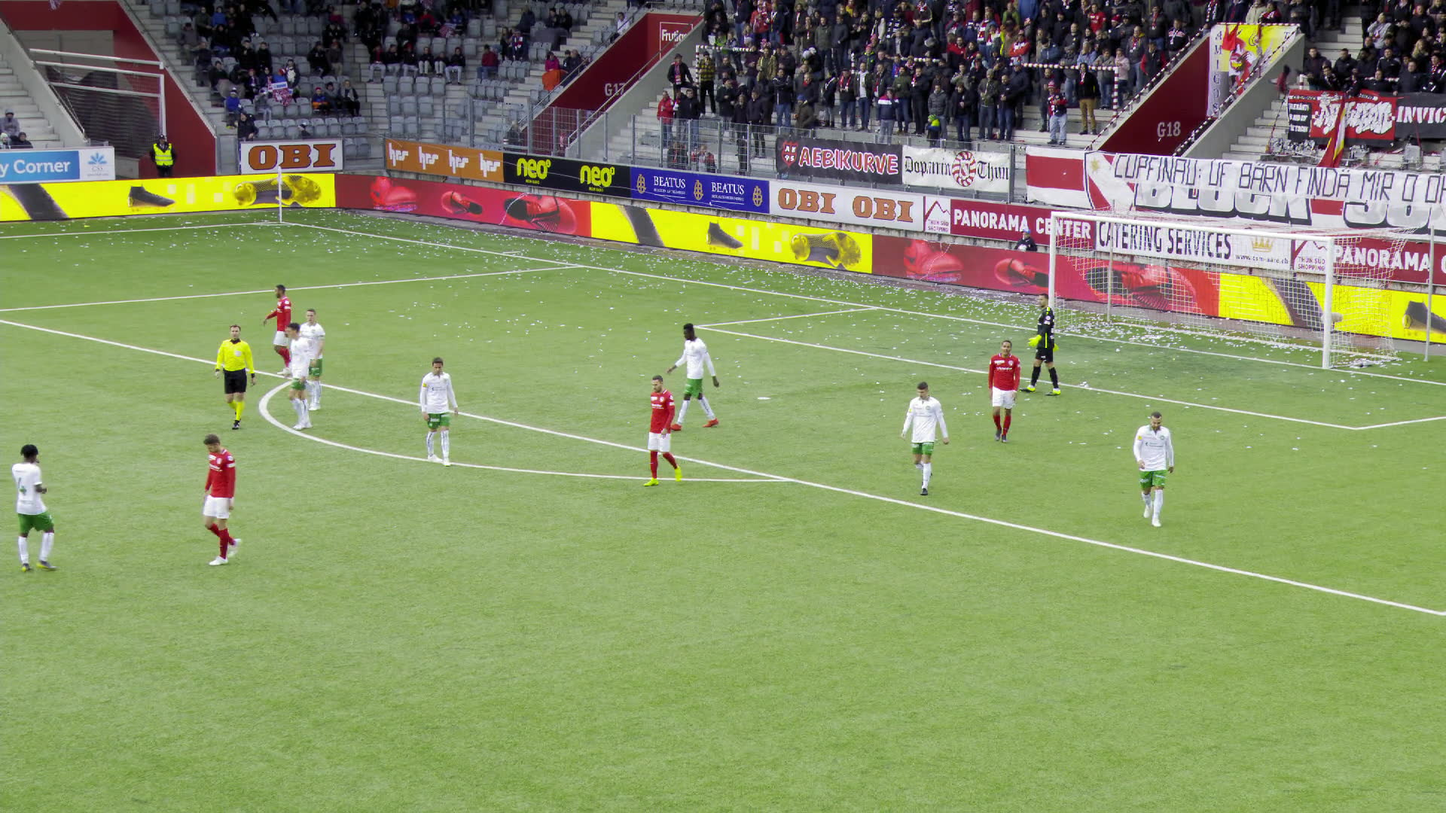player: (11, 443, 62, 572), (202, 436, 251, 569), (901, 379, 947, 495), (672, 320, 718, 431), (1133, 410, 1175, 526), (282, 322, 325, 431), (643, 375, 683, 489), (418, 355, 459, 465), (1019, 293, 1061, 397), (985, 339, 1022, 445), (266, 282, 300, 373), (296, 307, 325, 410)
referee: (212, 323, 258, 429)
